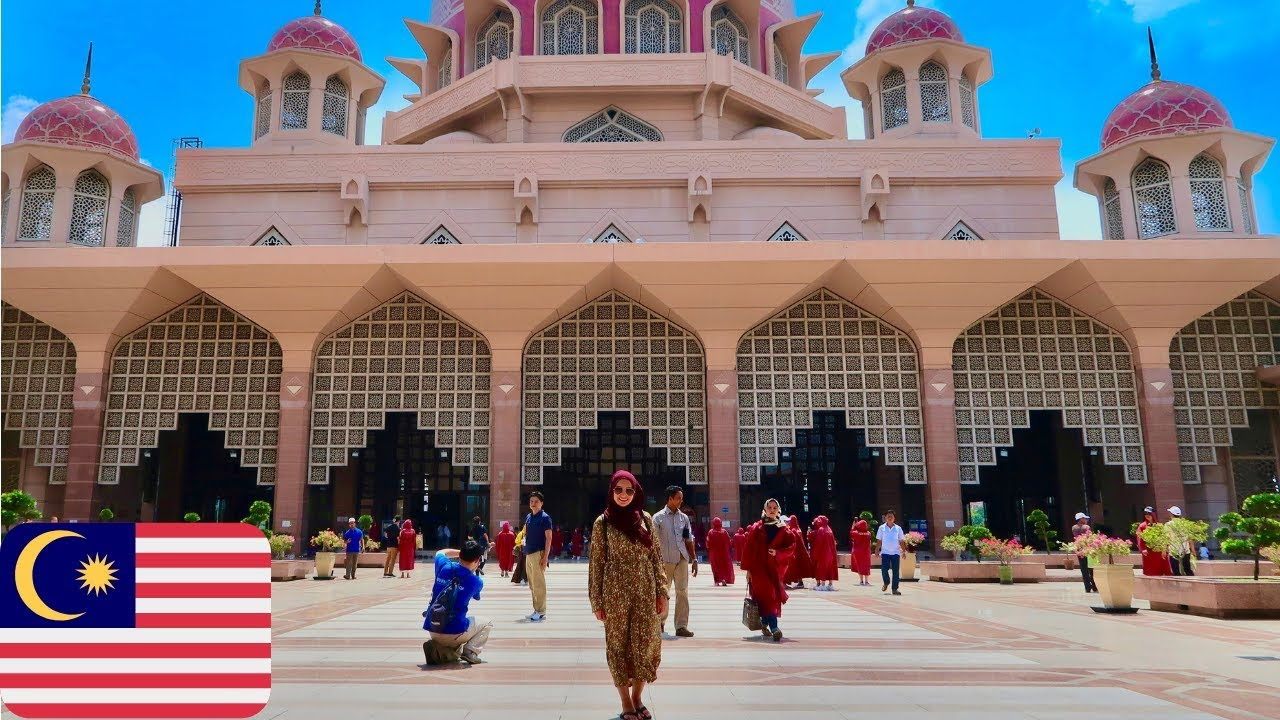Mosque: (4, 1, 1258, 477)
